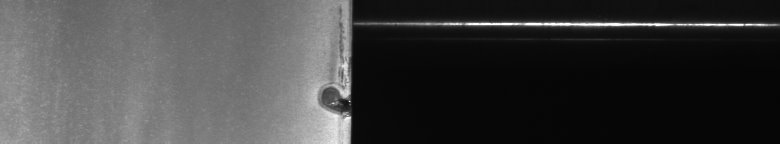hb: (311, 41, 340, 121)
